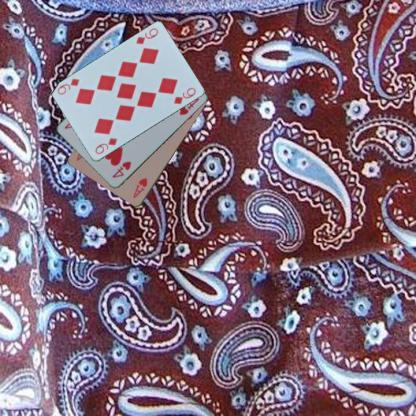4h: (110, 159, 132, 179)
9d: (92, 135, 118, 156), (134, 26, 160, 46)
Ah: (130, 176, 148, 200)
